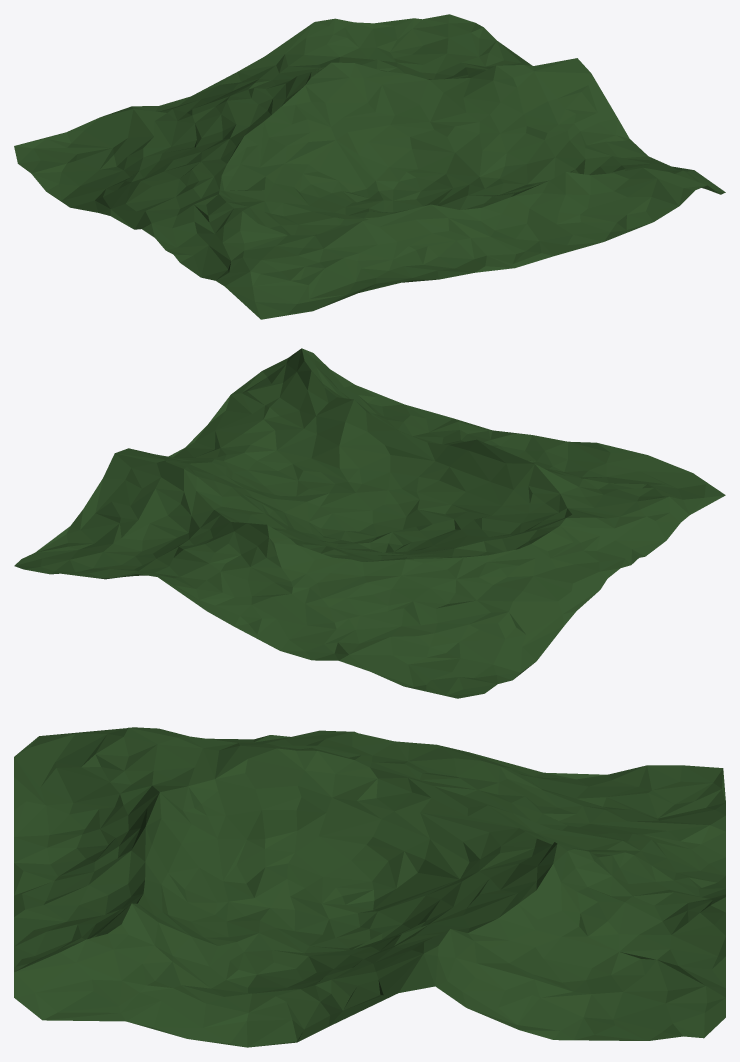
File: SM_landscape_06.fbx
The picture shows the model from 3 angles, top to bottom: view 1: azimuth 30°, elevation 25°; view 2: azimuth 150°, elevation 25°; view 3: azimuth 270°, elevation 25°; orthographic projection. The views are drawn at different scales.
Parts seen in each view (by area): view 1: landscape_06; view 2: landscape_06; view 3: landscape_06.
Boxes of the visible parts, <box> form: landscape_06: <box>14,14,725,319</box>; landscape_06: <box>14,348,725,698</box>; landscape_06: <box>14,727,725,1047</box>.
Size of the model in its own units: 2224 by 363 by 2224.
